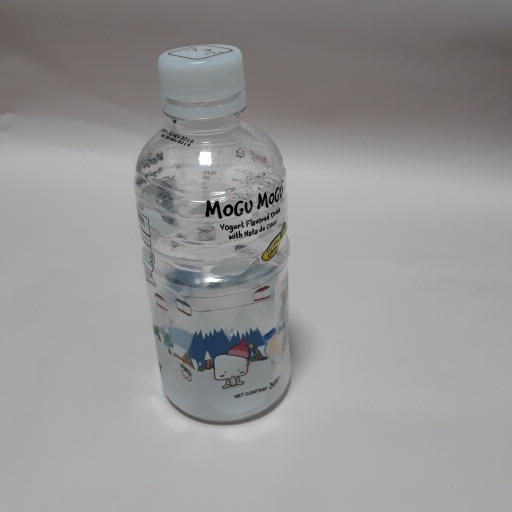Plastic_0: (128, 46, 301, 426)
